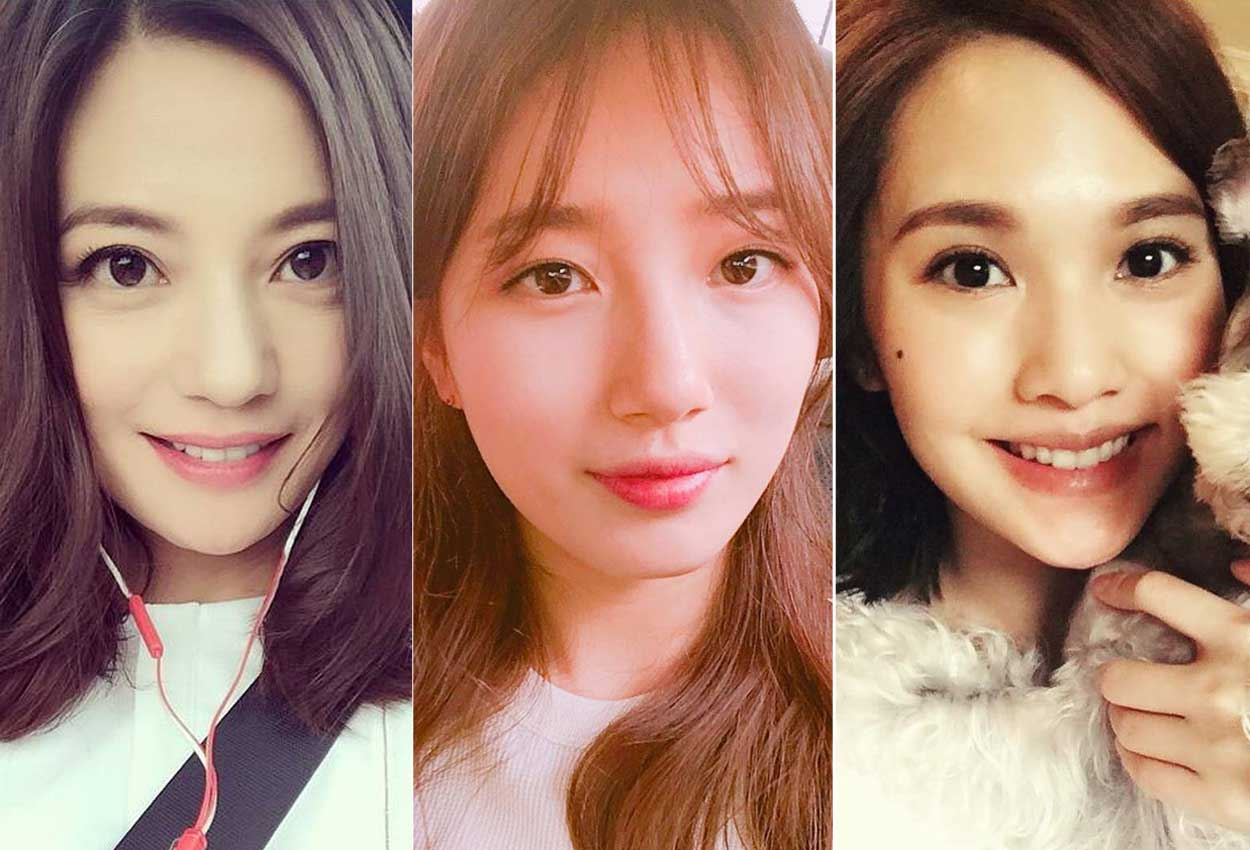bare: (874, 306, 1234, 570), (453, 321, 830, 573), (63, 320, 381, 551)
